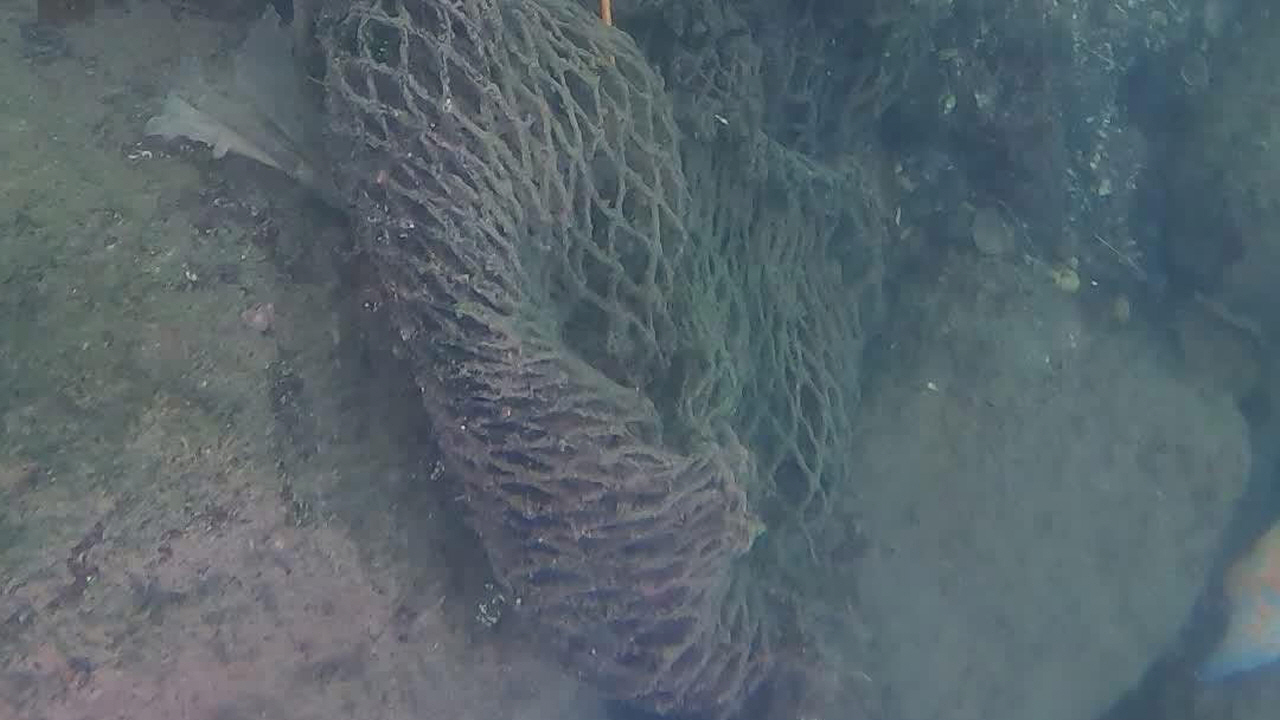fish net: (315, 0, 869, 720)
